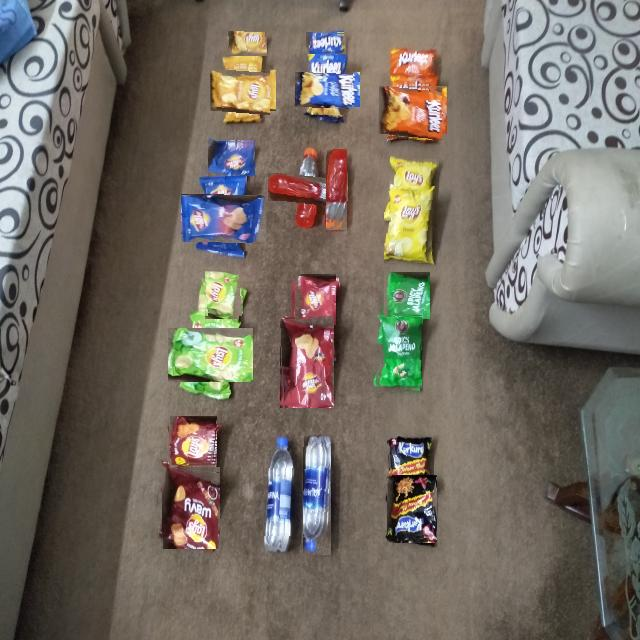Plastic: (279, 318, 334, 408), (175, 320, 245, 390), (161, 466, 220, 549), (190, 184, 257, 251), (384, 186, 438, 264), (370, 317, 422, 393), (264, 434, 294, 554), (384, 81, 442, 140), (387, 475, 437, 543), (303, 435, 331, 555), (215, 63, 270, 118), (281, 160, 335, 215), (302, 64, 353, 115), (169, 417, 218, 466), (293, 276, 339, 323), (384, 272, 430, 318), (387, 434, 434, 475), (388, 153, 439, 188), (208, 139, 255, 176), (201, 275, 243, 316), (326, 149, 347, 230), (390, 44, 438, 75), (227, 30, 267, 56), (305, 31, 346, 54)
